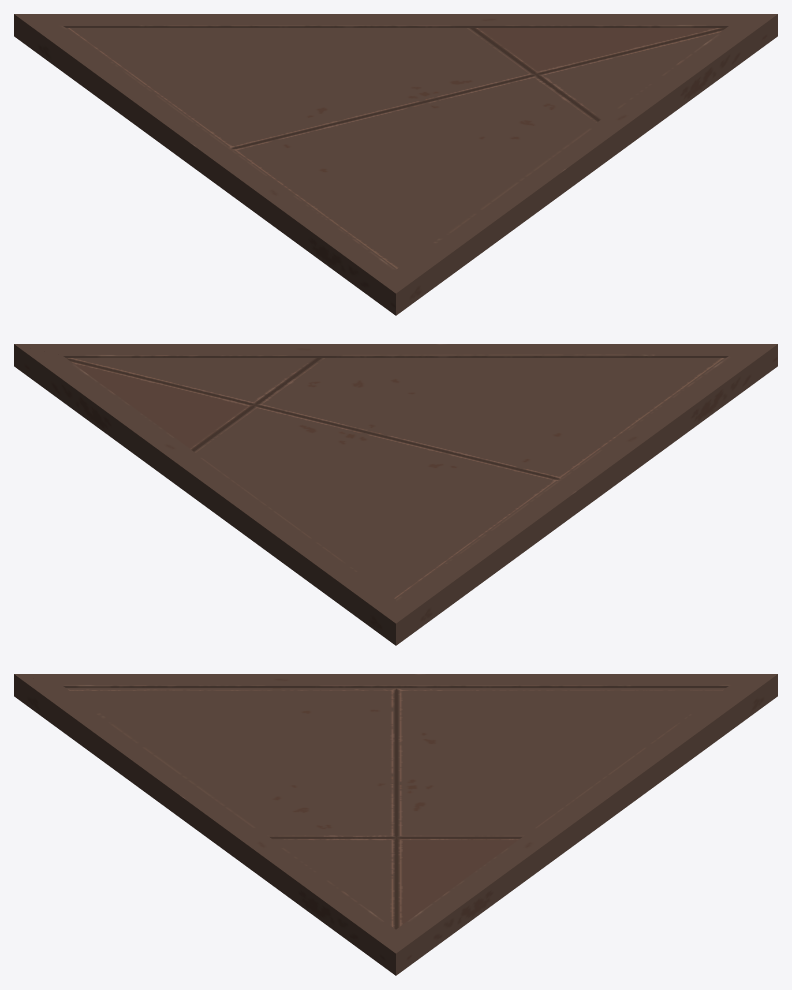
The model's file is SM_Polygonal_Metal_Tri_Ceiling.fbx.
3 renders of one model, top to bottom at view 1: azimuth 30°, elevation 25°; view 2: azimuth 150°, elevation 25°; view 3: azimuth 270°, elevation 25°, orthographic.
Visible parts, largest first — view 1: SM_Polygonal_Metal_Tri_Ceiling_LOD0; view 2: SM_Polygonal_Metal_Tri_Ceiling_LOD0; view 3: SM_Polygonal_Metal_Tri_Ceiling_LOD0.
Part boxes in pixels (<box>): SM_Polygonal_Metal_Tri_Ceiling_LOD0: <box>14,14,777,315</box>; SM_Polygonal_Metal_Tri_Ceiling_LOD0: <box>14,344,777,645</box>; SM_Polygonal_Metal_Tri_Ceiling_LOD0: <box>14,674,777,975</box>.
Size of the model in its own units: 260 by 300 by 9.64.
1 material, 1 textured.
